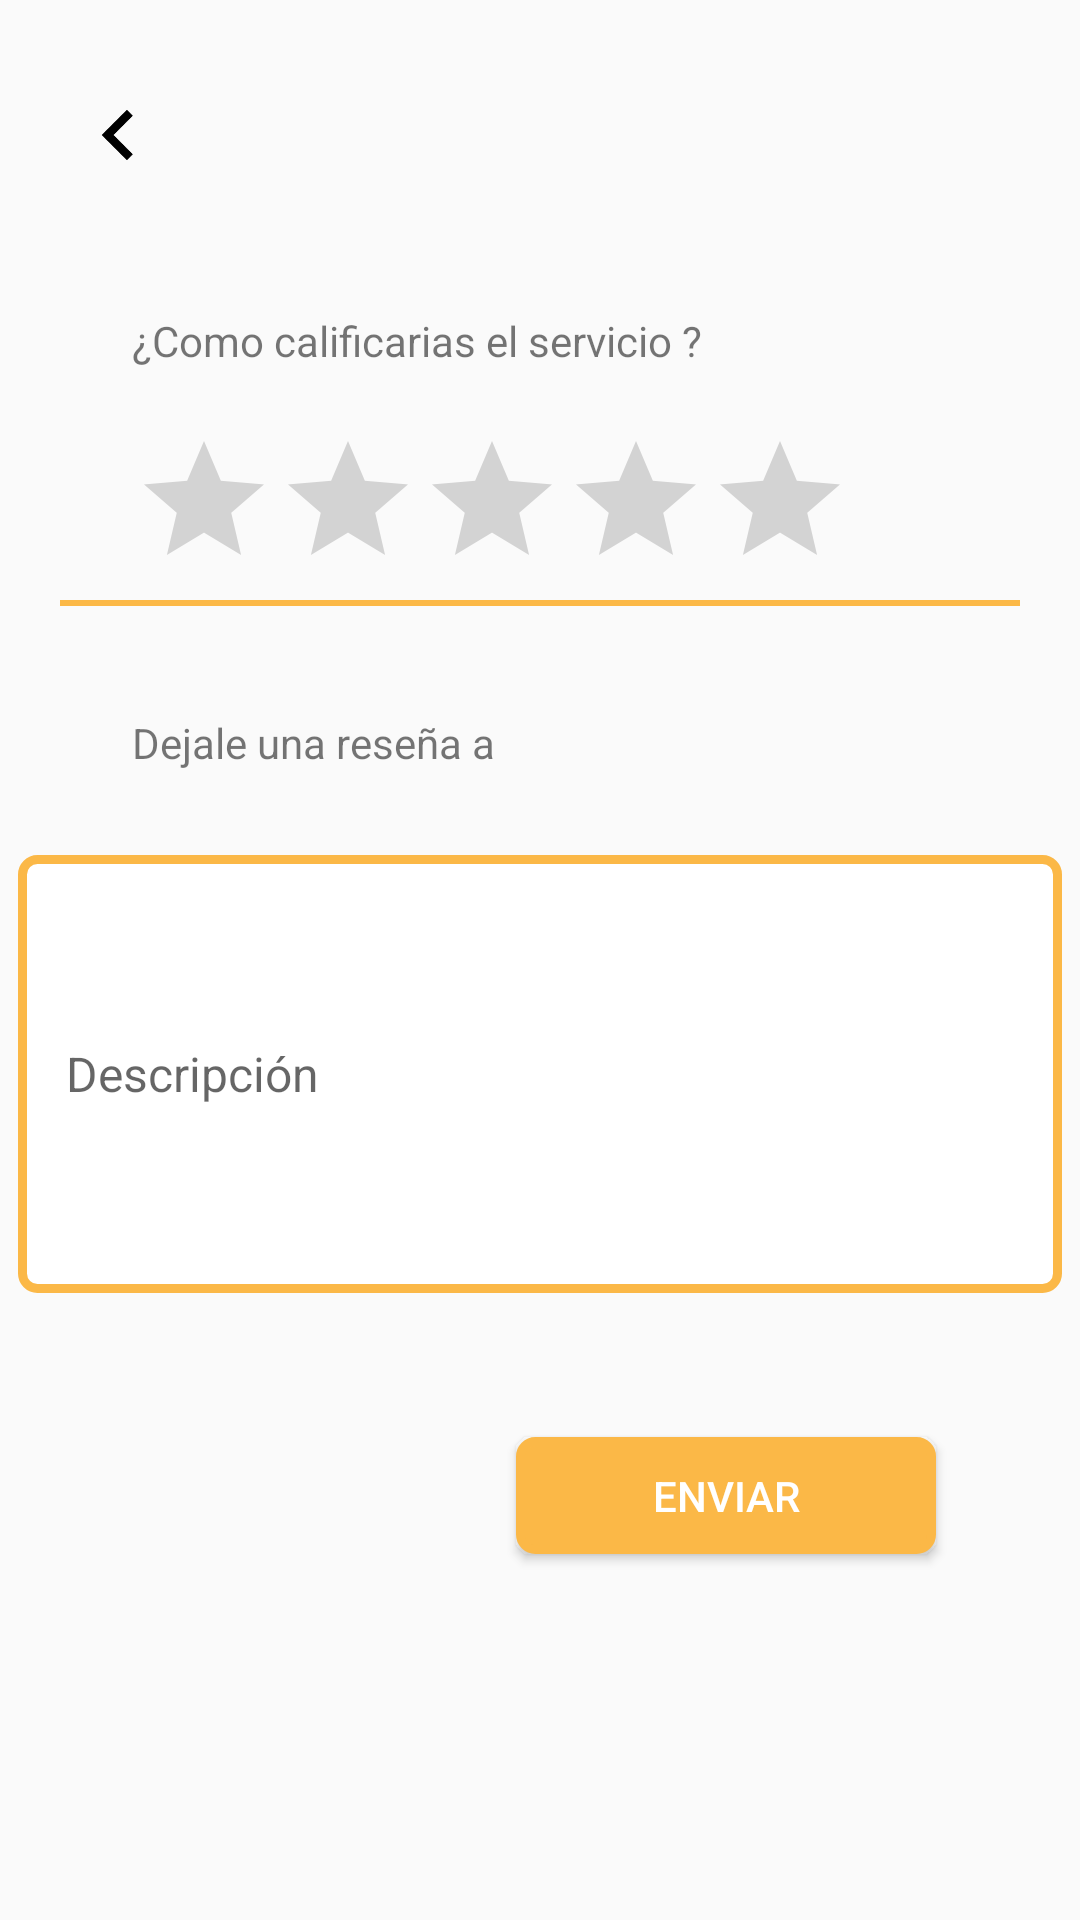

Icons on this 1080×1920 Android screen, each with the point to tap as (x,y):
leftkey: (117,135)
